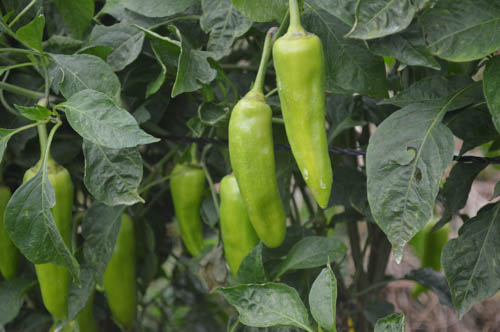ChiliPepper: (272, 37, 332, 206), (231, 100, 285, 247), (22, 168, 72, 317), (219, 175, 258, 276), (107, 215, 138, 324), (171, 167, 206, 249)
